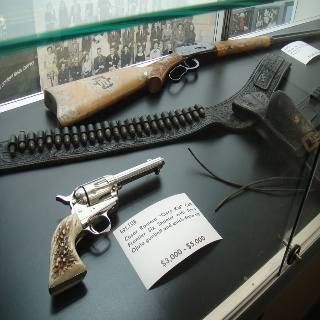pistol: (48, 157, 169, 296)
